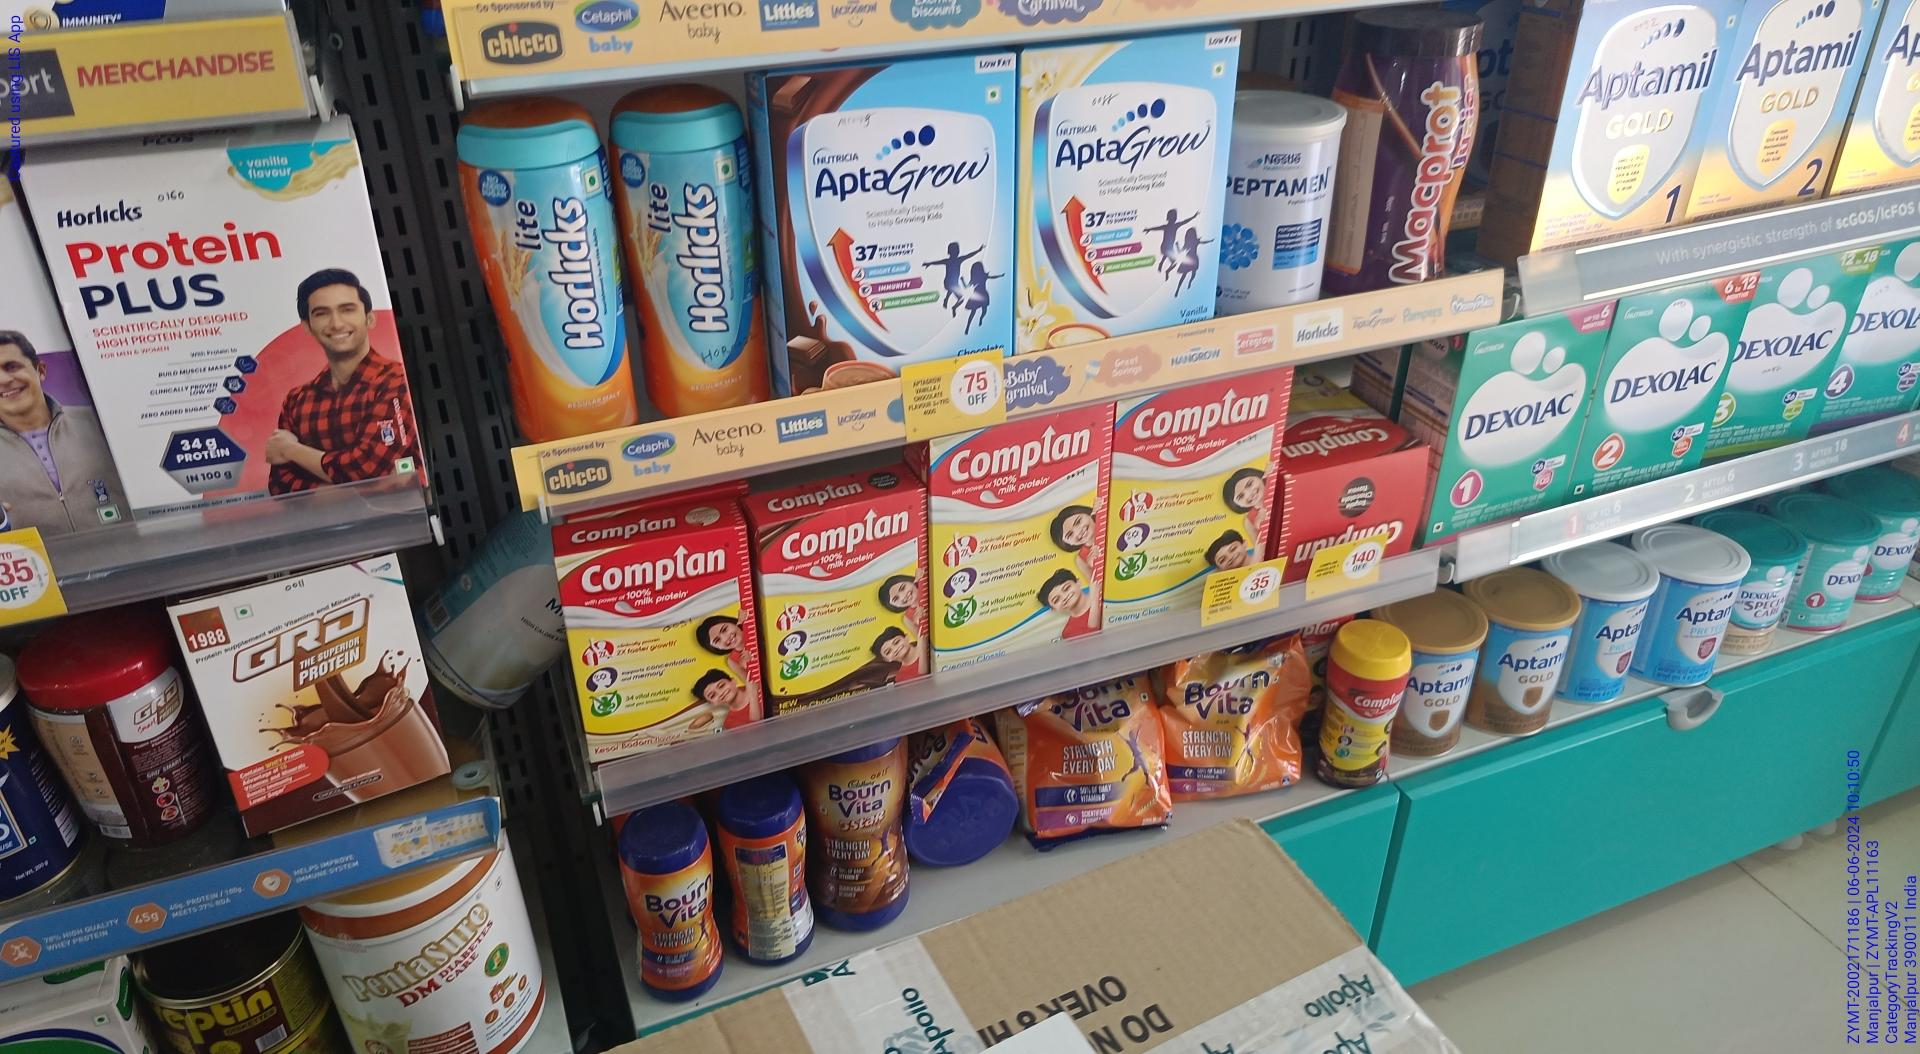BOURN_VITA_200_G_JAR: (633, 833, 728, 1006)
BOURN_VITA_FIVE_STAR_MAGIC_500_G_JAR: (813, 758, 908, 941)
COMPLAN_CHOCOLATE_200_GMS_JAR: (1314, 635, 1405, 792)
COMPLAN_CREAMY_CLASSIC_500_G_PACK: (930, 428, 1103, 648), (1110, 396, 1278, 583)
COMPLAN_KESAR_BADAM_200_GMS_PACK: (560, 539, 754, 735)
HORLICKS_LITE_REGULAR_MALT_500_GM_JAR: (475, 125, 619, 428), (627, 105, 756, 383)
